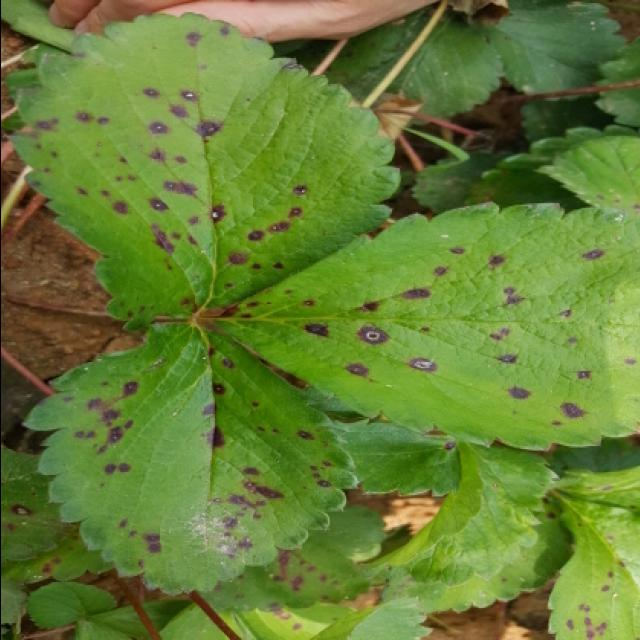Leaf Spot: (3, 11, 402, 333), (199, 200, 640, 453), (22, 319, 358, 597), (197, 503, 386, 638), (401, 494, 572, 616), (544, 489, 640, 638), (327, 414, 460, 499), (531, 135, 640, 214), (2, 525, 111, 594), (2, 444, 65, 563), (545, 435, 640, 500)
